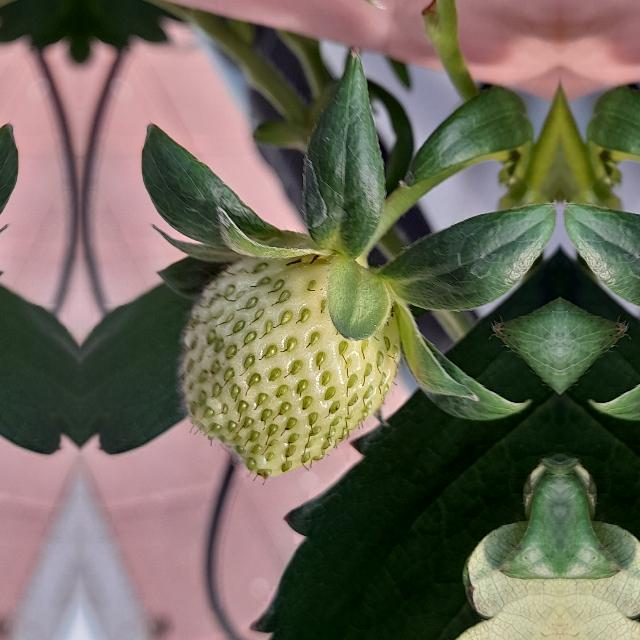Health_25: (175, 257, 402, 485)
